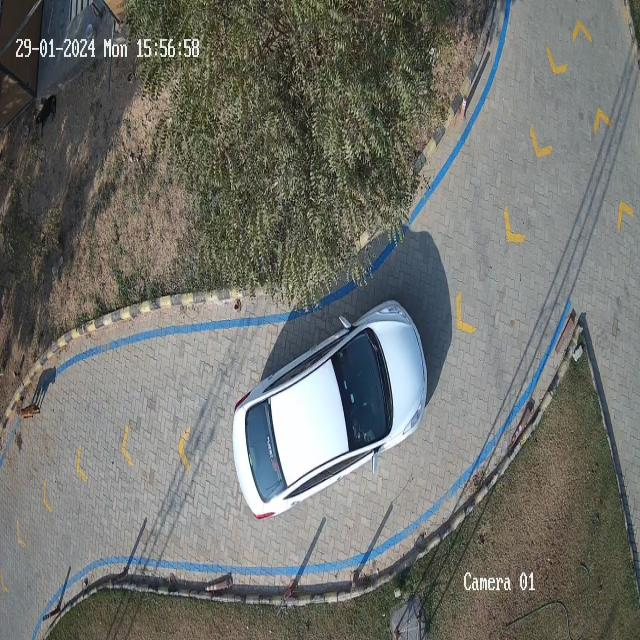car: (232, 300, 428, 520)
